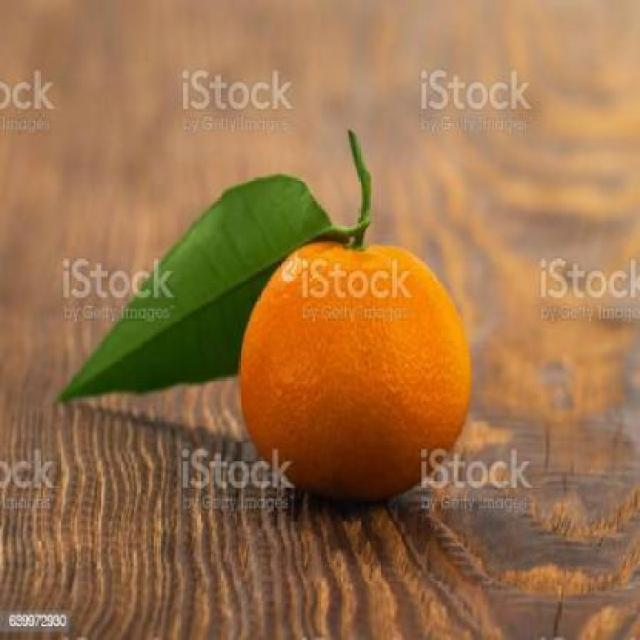Orange: (235, 237, 472, 501)
